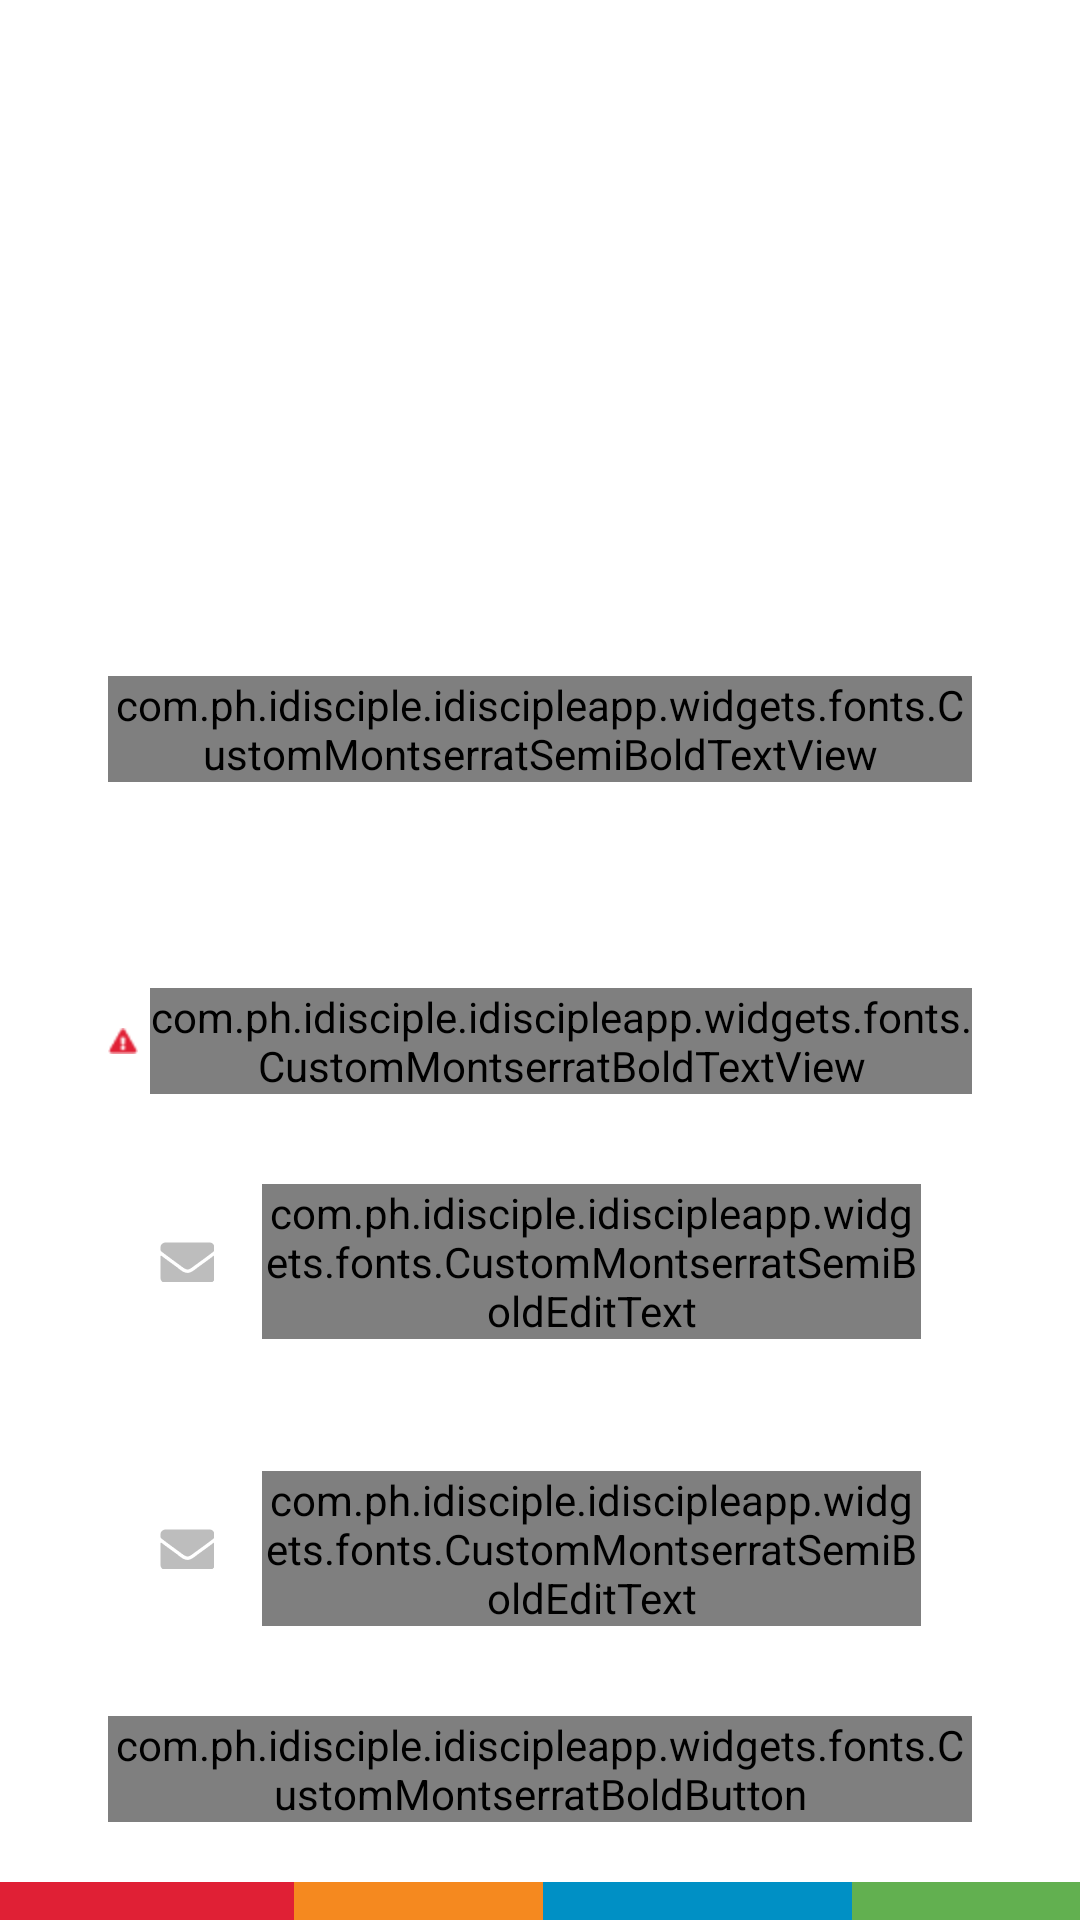

Screen size 1080×1920. Icon name, then its center in pixels as [x,y]:
email: [187,1262], [187,1549]
exclamation: [123,1041]
